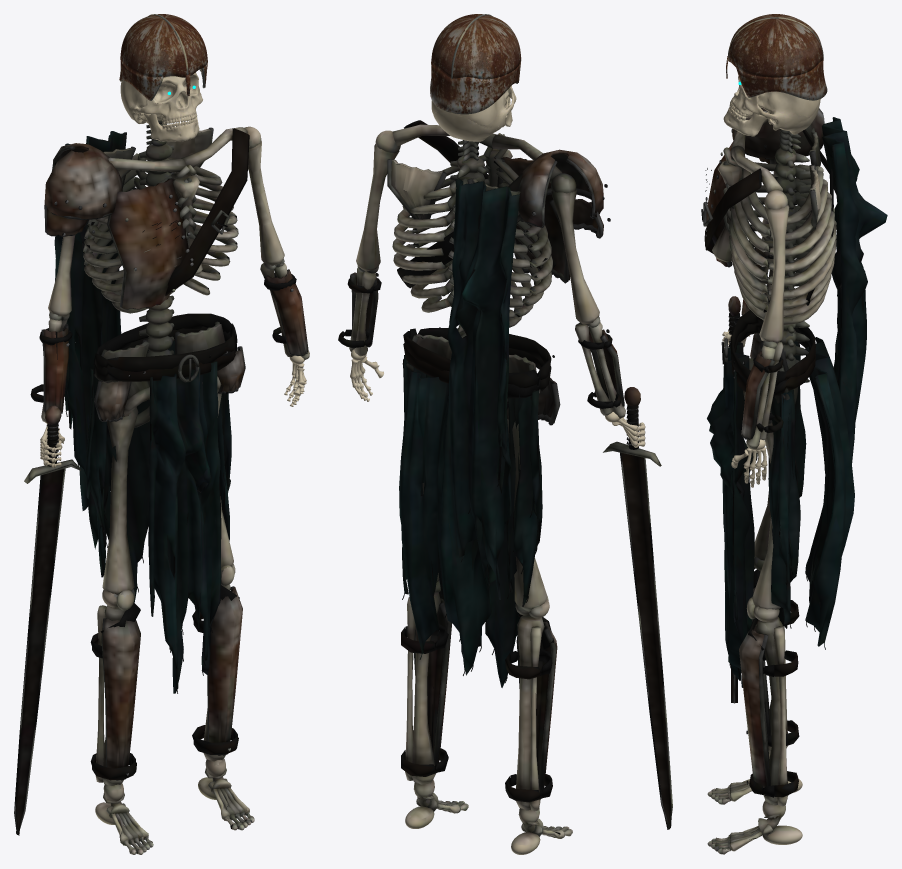
File: skeleton-concept.glb
The picture shows the model from 3 angles, left to right: view 1: azimuth 30°, elevation 25°; view 2: azimuth 150°, elevation 25°; view 3: azimuth 270°, elevation 25°; orthographic projection. The views are drawn at different scales.
Parts seen in each view (by area): view 1: hips_surface, spine_surface, SkeletonHeadClean, sword_surface, cape__Teal linen, rightShin_surface, rightUpperArm_surface, leftShin_surface, rightThigh__Old ivory, leftForearm_surface, rightForearm_surface, leftUpperArm__Old ivory (+5 smaller); view 2: hips_surface, cape__Teal linen, spine_surface, SkeletonHeadClean, sword_surface, rightUpperArm_surface, rightShin_surface, leftShin_surface, rightForearm_surface, leftUpperArm__Old ivory, leftForearm_surface, rightThigh__Old ivory (+3 smaller); view 3: hips_surface, spine_surface, SkeletonHeadClean, cape__Teal linen, leftShin_surface, leftForearm_surface, leftUpperArm__Old ivory, leftFoot__Old ivory, rightUpperArm_surface, leftThigh__Old ivory, rightShin_surface, SkeletonLeftHandClean (+3 smaller).
Boxes of the visible parts, box(x1,y1,x2,y2) form: hips_surface: box(85, 313, 245, 693); spine_surface: box(83, 120, 249, 356); SkeletonHeadClean: box(119, 14, 207, 141); sword_surface: box(14, 405, 80, 835); cape__Teal linen: box(54, 131, 126, 510); rightShin_surface: box(90, 602, 140, 785); rightUpperArm_surface: box(44, 143, 122, 320); leftShin_surface: box(192, 584, 242, 761); rightThigh__Old ivory: box(102, 407, 138, 610); leftForearm_surface: box(260, 263, 309, 359); rightForearm_surface: box(30, 319, 72, 421); leftUpperArm__Old ivory: box(245, 126, 284, 270); hips_surface: box(399, 327, 560, 687); cape__Teal linen: box(447, 179, 519, 573); spine_surface: box(387, 120, 569, 359); SkeletonHeadClean: box(430, 14, 521, 141); sword_surface: box(603, 387, 672, 829); rightUpperArm_surface: box(517, 149, 610, 327); rightShin_surface: box(505, 614, 557, 811); leftShin_surface: box(401, 591, 452, 784); rightForearm_surface: box(575, 322, 625, 418); leftUpperArm__Old ivory: box(356, 130, 400, 273); leftForearm_surface: box(338, 267, 381, 356); rightThigh__Old ivory: box(506, 407, 549, 618); hips_surface: box(707, 310, 854, 687); spine_surface: box(701, 111, 836, 382); SkeletonHeadClean: box(723, 14, 827, 136); cape__Teal linen: box(822, 117, 887, 470); leftShin_surface: box(739, 617, 798, 806); leftForearm_surface: box(741, 342, 783, 448); leftUpperArm__Old ivory: box(759, 190, 789, 348); leftFoot__Old ivory: box(707, 800, 802, 854); rightUpperArm_surface: box(731, 107, 824, 240); leftThigh__Old ivory: box(746, 412, 780, 621); rightShin_surface: box(746, 569, 799, 753); SkeletonLeftHandClean: box(731, 439, 767, 487).
Size of the model in its own units: 0.7255 by 1.82 by 0.3799.
Materials: 3 (2 with a texture image).
